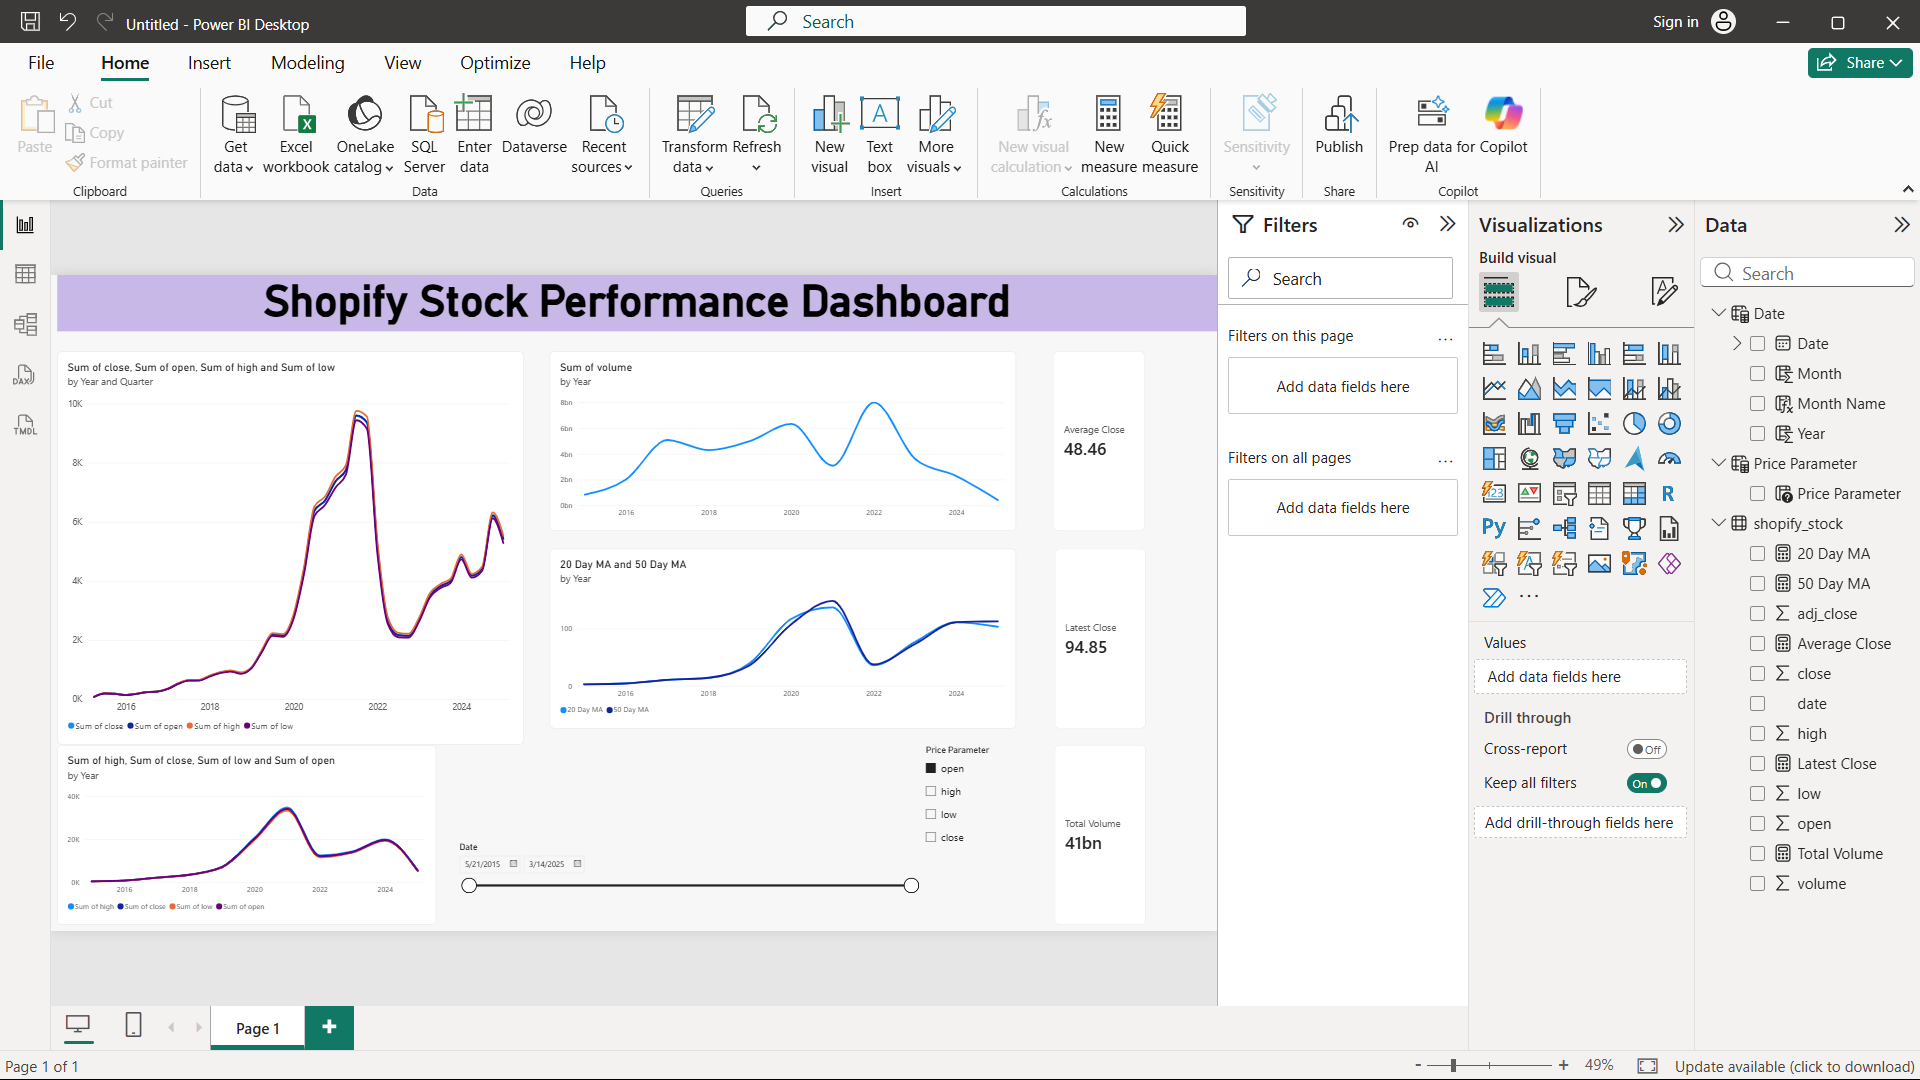

The dashboard page shown, as its layout file describes it:
{"tool":"powerbi","page":{"name":"Page 1","canvas":[1920,1080],"ordinal":0},"visuals":[{"type":"textbox","title":"Shopify Stock Performance Dashboard","box":[10.3,0,1910.1,92.6],"z":0},{"type":"lineChart","fields":{"Category":["Date.Date.Variation.Date Hierarchy.Year","Date.Date.Variation.Date Hierarchy.Quarter"],"Y":["Sum(shopify_stock.close)","Sum(shopify_stock.open)","Sum(shopify_stock.high)","Sum(shopify_stock.low)"]},"box":[10.3,125.6,767.8,648.4],"z":1},{"type":"lineChart","fields":{"Category":["Date.Date.Variation.Date Hierarchy.Year","Date.Date.Variation.Date Hierarchy.Quarter","Date.Date.Variation.Date Hierarchy.Month","Date.Date.Variation.Date Hierarchy.Day"],"Y":["Sum(shopify_stock.volume)"]},"box":[821.3,125.6,768,296],"z":2},{"type":"lineChart","fields":{"Category":["Date.Date.Variation.Date Hierarchy.Year","Date.Date.Variation.Date Hierarchy.Quarter","Date.Date.Variation.Date Hierarchy.Month","Date.Date.Variation.Date Hierarchy.Day"],"Y":["shopify_stock.20 Day MA","shopify_stock.50 Day MA"]},"box":[821.3,450.8,768,296],"z":3},{"type":"slicer","fields":{"Values":["Date.Date"]},"box":[664.8,932.4,767.8,148.2],"z":4},{"type":"slicer","fields":{"Values":["Price Parameter.Price Parameter"]},"box":[1432.6,773.9,144.1,207.9],"z":5},{"type":"lineChart","fields":{"Category":["Date.Date.Variation.Date Hierarchy.Year","Date.Date.Variation.Date Hierarchy.Quarter","Date.Date.Variation.Date Hierarchy.Month","Date.Date.Variation.Date Hierarchy.Day"],"Y":["Sum(shopify_stock.high)","Sum(shopify_stock.close)","Sum(shopify_stock.low)","Sum(shopify_stock.open)"]},"box":[10.3,773.9,623.7,296.4],"z":6},{"type":"cardVisual","fields":{"Data":["shopify_stock.Average Close"]},"box":[1650.8,125.6,150,296],"z":7},{"type":"cardVisual","fields":{"Data":["shopify_stock.Latest Close"]},"box":[1652.8,450.8,150,296],"z":8},{"type":"cardVisual","fields":{"Data":["shopify_stock.Total Volume"]},"box":[1652.8,773.9,150,296],"z":9}]}

Visuals, with their boxes on the page's 1920x1080 design canvas (x1, y1, x2, y2). These are canvas units, not pixel positions in the 1920x1080 screenshot, which may show the page scaled, cropped or inside an application window:
"Shopify Stock Performance Dashboard" textbox: (10, 0, 1920, 93)
lineChart - Date.Date.Variation.Date Hierarchy.Year x Date.Date.Variation.Date Hierarchy.Quarter: (10, 126, 778, 774)
lineChart - Date.Date.Variation.Date Hierarchy.Year x Date.Date.Variation.Date Hierarchy.Quarter: (821, 126, 1589, 422)
lineChart - Date.Date.Variation.Date Hierarchy.Year x Date.Date.Variation.Date Hierarchy.Quarter: (821, 451, 1589, 747)
slicer - Date.Date: (665, 932, 1433, 1081)
slicer - Price Parameter.Price Parameter: (1433, 774, 1577, 982)
lineChart - Date.Date.Variation.Date Hierarchy.Year x Date.Date.Variation.Date Hierarchy.Quarter: (10, 774, 634, 1070)
cardVisual - shopify_stock.Average Close: (1651, 126, 1801, 422)
cardVisual - shopify_stock.Latest Close: (1653, 451, 1803, 747)
cardVisual - shopify_stock.Total Volume: (1653, 774, 1803, 1070)
